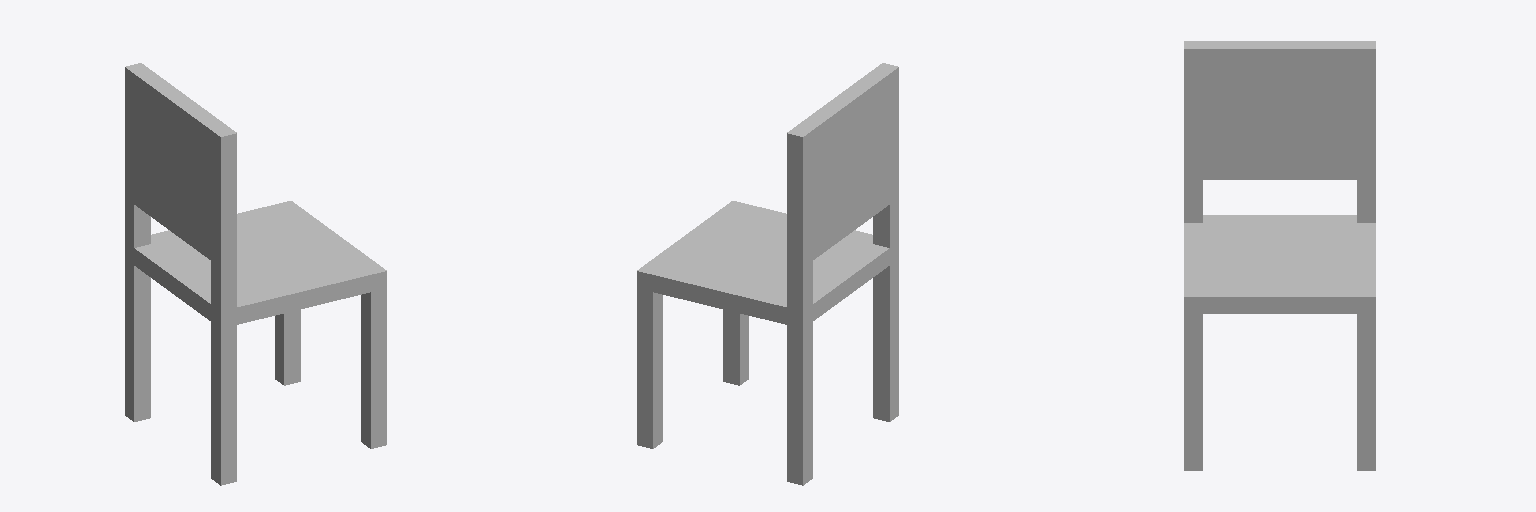
Rendered from chair1Unit.obj.
3 views of the same model, side by side, from view 1: azimuth 30°, elevation 25°; view 2: azimuth 150°, elevation 25°; view 3: azimuth 270°, elevation 25° (orthographic).
Parts seen in each view (by area): view 1: chair1Unit; view 2: chair1Unit; view 3: chair1Unit.
Part boxes in pixels (x1,y1,x2,y2): chair1Unit: (125,63,386,485); chair1Unit: (637,63,898,485); chair1Unit: (1184,41,1375,470).
Size of the model in its own units: 1 by 2 by 1.